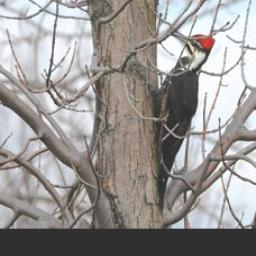Woodpecker: (149, 27, 217, 221)
